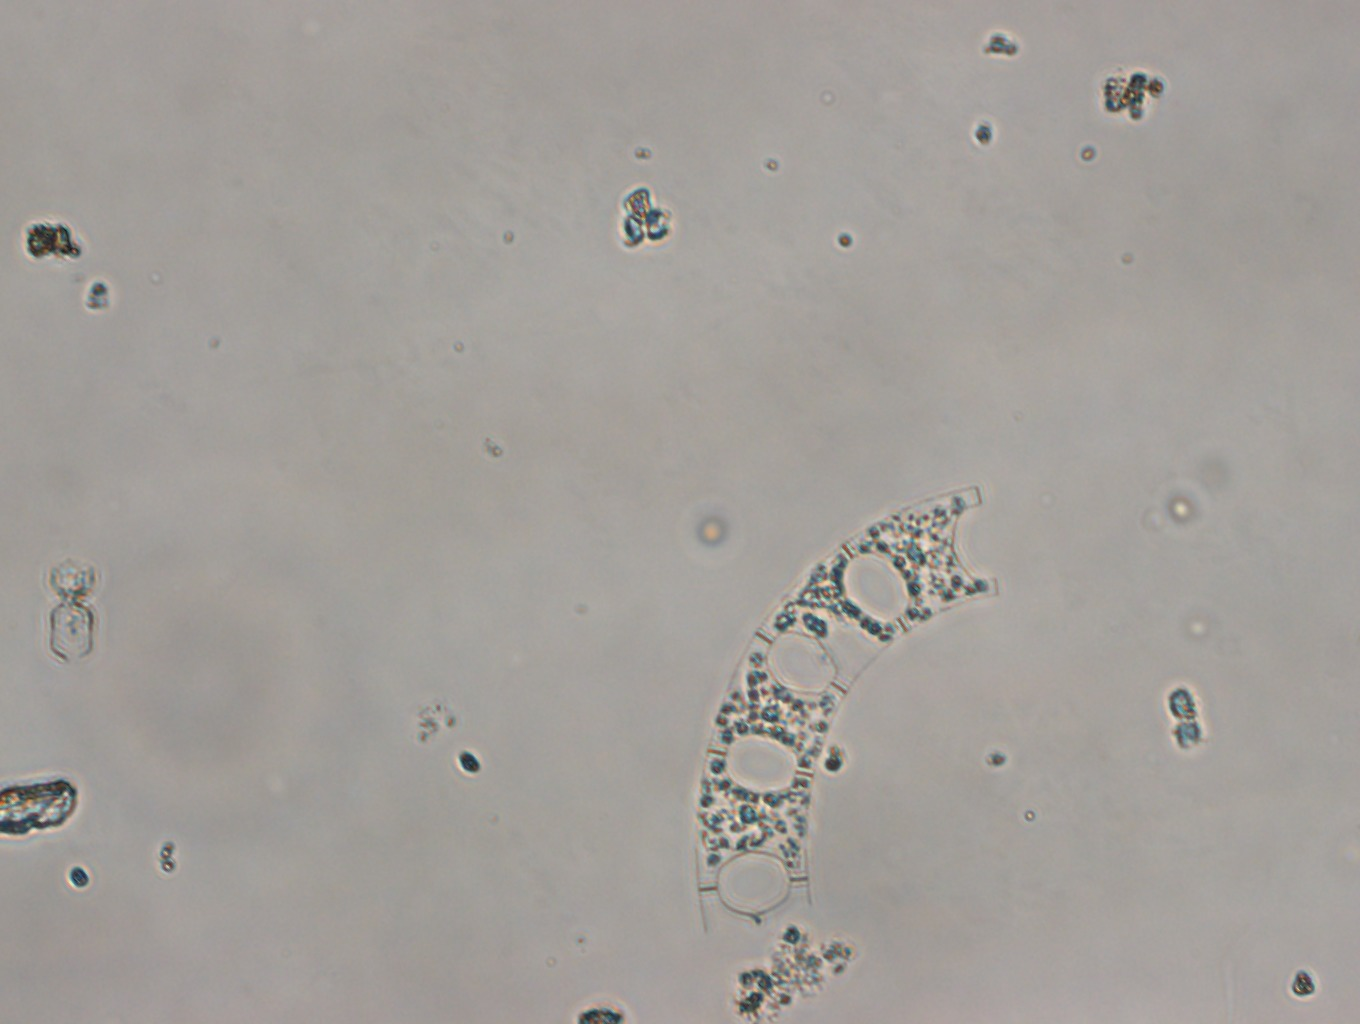eucampia: (679, 482, 994, 936)
